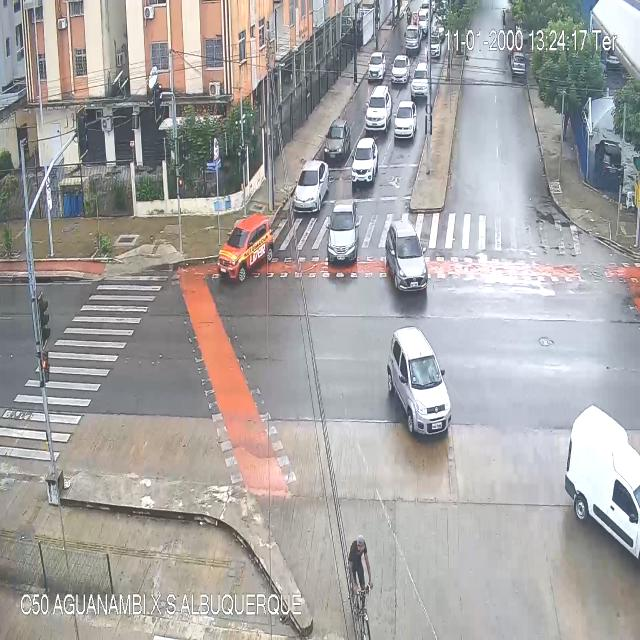Car: (566, 405, 640, 565), (389, 326, 451, 440), (217, 214, 274, 282), (386, 223, 430, 290), (326, 204, 360, 263), (295, 160, 329, 212), (365, 86, 391, 136), (352, 138, 378, 186), (324, 118, 351, 162), (394, 100, 417, 144), (392, 54, 411, 86), (414, 62, 429, 96), (367, 53, 385, 81), (418, 12, 431, 37), (428, 36, 441, 59), (512, 52, 525, 74)
Motorcycle: (407, 7, 412, 26)
Truck: (404, 24, 420, 49)
